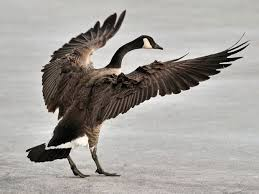goose: (21, 32, 178, 181)
